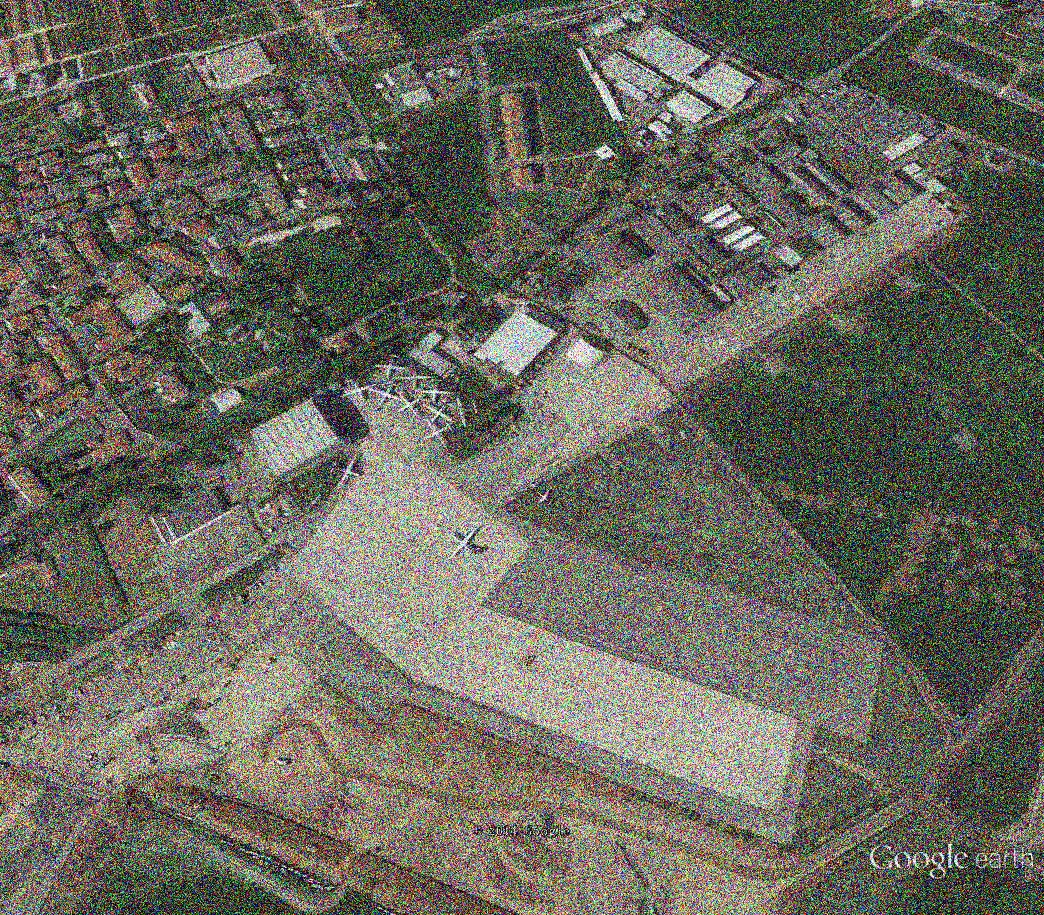aircraft: (327, 452, 365, 490), (444, 394, 482, 431), (368, 349, 410, 382), (449, 526, 487, 561), (420, 415, 458, 450), (338, 375, 378, 407), (416, 397, 460, 426), (414, 375, 456, 404), (368, 379, 403, 412), (392, 388, 426, 419), (398, 363, 433, 391), (535, 487, 557, 509)
